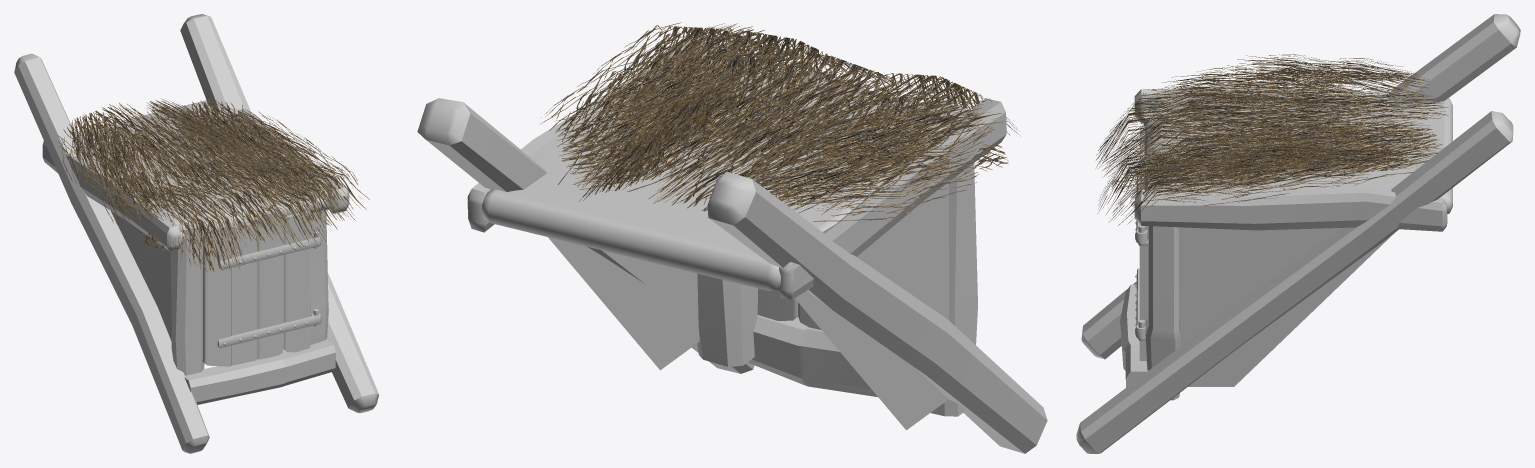
The model's file is SM_barnRoofDecoA_a1.fbx.
3 views of the same model, side by side, from view 1: azimuth 30°, elevation 25°; view 2: azimuth 150°, elevation 25°; view 3: azimuth 270°, elevation 25° (orthographic). The views are drawn at different scales.
Visible parts, largest first — view 1: SM_barnRoofDecoA_a1_LOD0; view 2: SM_barnRoofDecoA_a1_LOD0; view 3: SM_barnRoofDecoA_a1_LOD0.
Boxes of the visible parts, box(x1,y1,x2,y2) form: SM_barnRoofDecoA_a1_LOD0: box(14, 14, 379, 453); SM_barnRoofDecoA_a1_LOD0: box(417, 22, 1047, 453); SM_barnRoofDecoA_a1_LOD0: box(1076, 14, 1520, 453).
Size of the model in its own units: 156 by 207 by 175.
4 materials, 1 textured.
